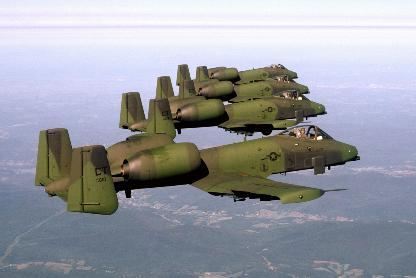A10: (34, 125, 360, 213), (118, 89, 326, 138), (155, 74, 309, 102), (176, 63, 298, 84)
